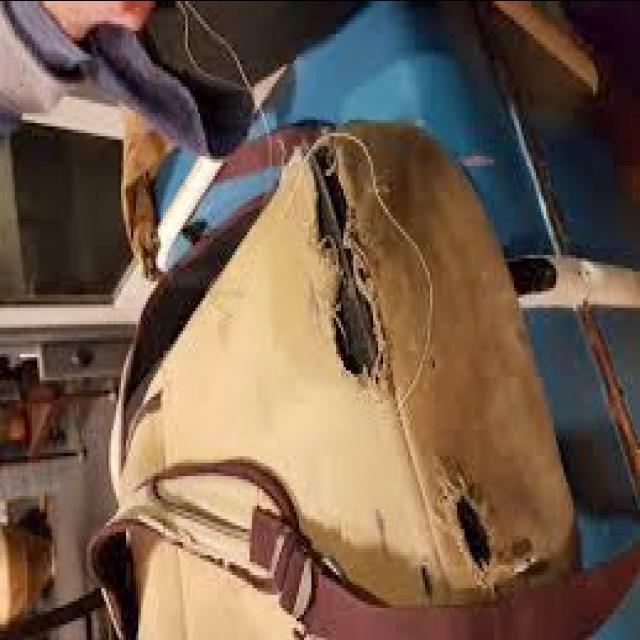Damage-bag: (306, 133, 398, 400), (423, 456, 549, 592), (419, 560, 431, 597)
